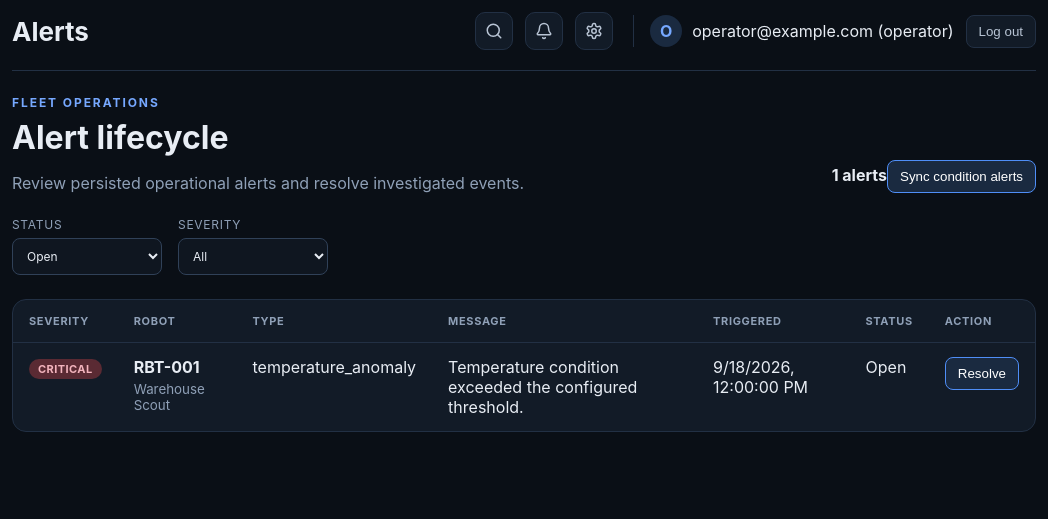
Test case: Alerts page › keeps the alert visible and reports mutation failure
What coordinates should you click on to do the following:
click the button "Resolve"
I would click on:
 (982, 374)
Its box is [945,357,1019,390].
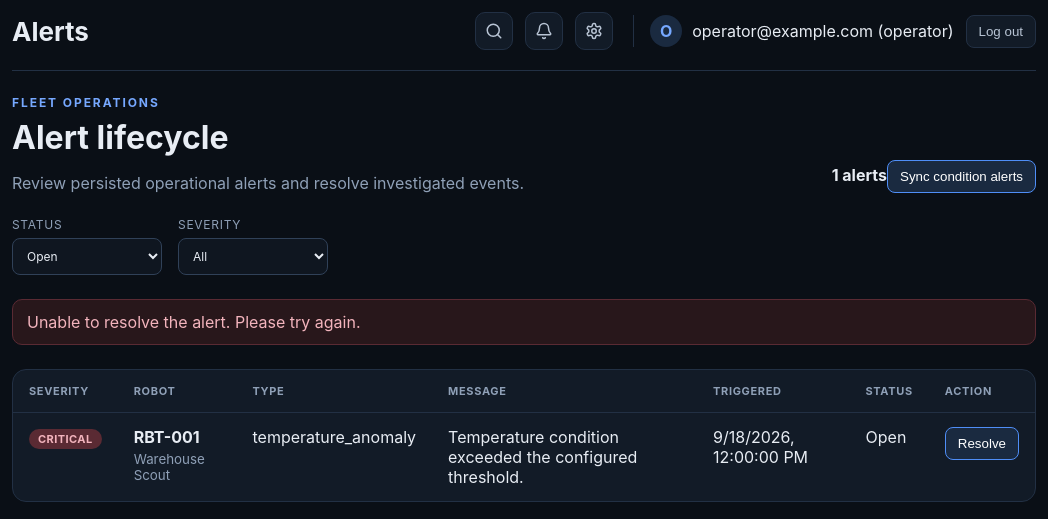
Expected: the text "RBT-001" is shown, [134,427,200,447]
Result: the text "Unable to resolve the alert. Please try again." is shown at [12,299,1036,345]
